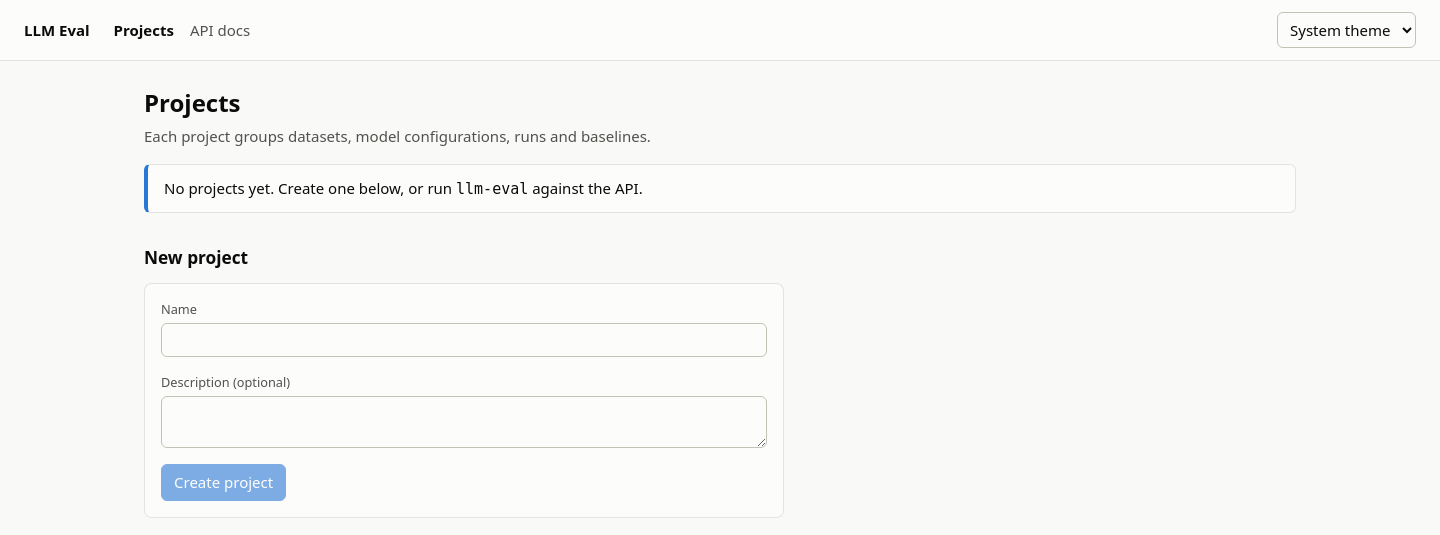
pages › shows an empty projects list with a create form
Expected: the text "No projects yet" is shown, [164, 178, 456, 198]
Expected: the button "Create project" is disabled, [161, 464, 286, 501]
Type "demo" into the field labelled "Name".
click(464, 340); type("demo")  # box [161, 323, 767, 357]
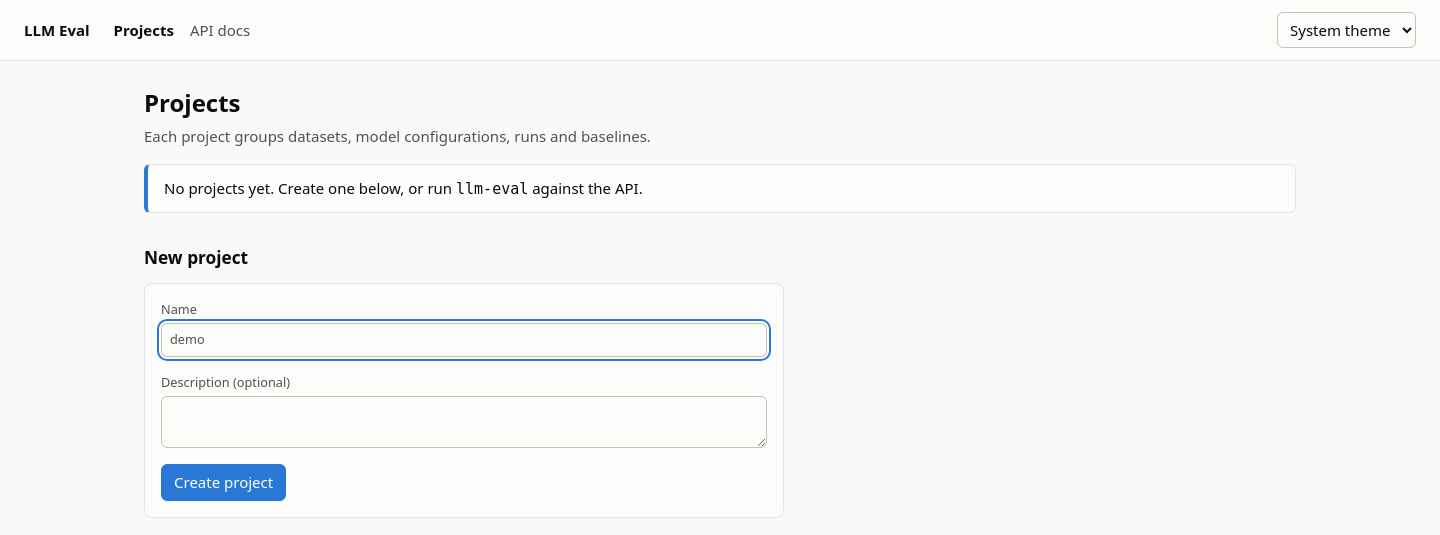
Expected: the button "Create project" is enabled, [161, 464, 286, 501]
